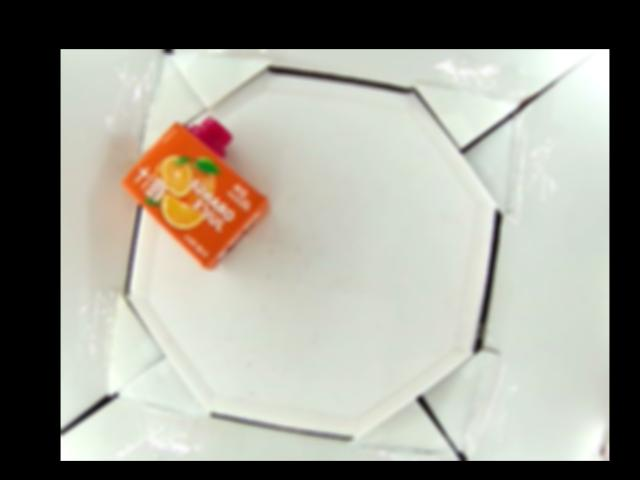Bottle: (119, 113, 274, 273)
